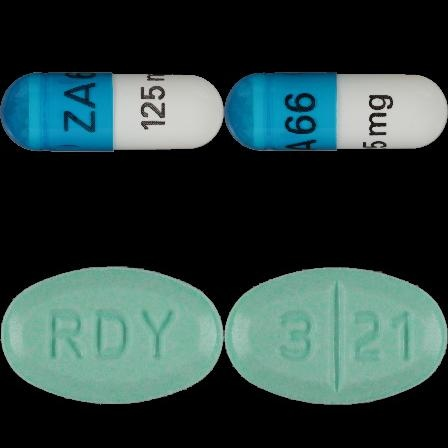68084-313: (0, 0, 224, 224)
